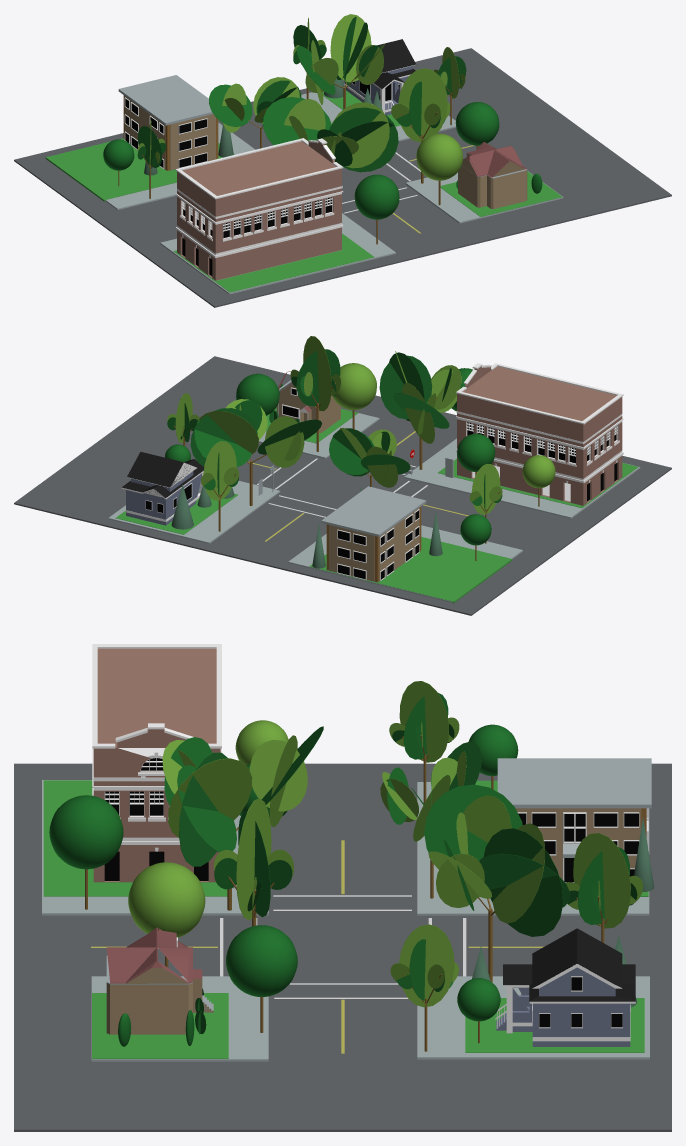
3 views of the same model, one above another, from view 1: azimuth 30°, elevation 25°; view 2: azimuth 150°, elevation 25°; view 3: azimuth 270°, elevation 25° (orthographic). The views are drawn at different scales.
Visible parts, largest first — view 1: pCube3, pasted__pCube42, pasted__pCube33, pasted__pCube5, pCube64, pCube172, pCube205, pCube75, pCylinder62 pCylinder44, pCylinder31 pSphere2, pasted__pCube28, pCylinder24 pSphere2 (+29 smaller); view 2: pCube3, pasted__pCube42, pCube172, pasted__pCube33, pCube205, pasted__pCube28, pasted__pCube5, pasted__pCube2, pasted__pCube27, pCylinder31 pSphere2, pCube190, pCube239 (+36 smaller); view 3: pCube3, pasted__pCube42, pCube64, pCube205, pasted__pCube2, pCube74, pCylinder31 pSphere2, pCylinder24 pSphere2, pCube239, pCylinder30 pSphere2, pCube75, pasted__pCube29 (+39 smaller).
Boxes of the visible parts, x1,y1,x2,y2 form: pCube3: (14, 48, 671, 307); pasted__pCube42: (177, 141, 341, 221); pasted__pCube33: (177, 194, 341, 253); pasted__pCube5: (177, 227, 341, 280); pCube64: (458, 142, 527, 209); pCube172: (45, 138, 234, 201); pCube205: (118, 75, 212, 125); pCube75: (173, 233, 374, 292); pCylinder62 pCylinder44: (398, 68, 447, 142); pCylinder31 pSphere2: (416, 133, 463, 180); pasted__pCube28: (160, 213, 395, 294); pCylinder24 pSphere2: (354, 174, 399, 219); pCube3: (14, 356, 671, 615); pasted__pCube42: (457, 366, 622, 447); pCube172: (309, 537, 512, 603); pasted__pCube33: (457, 419, 622, 478); pCube205: (321, 486, 426, 536); pasted__pCube28: (404, 438, 640, 518); pasted__pCube5: (457, 455, 622, 505); pasted__pCube2: (108, 481, 280, 543); pasted__pCube27: (288, 525, 522, 602); pCylinder31 pSphere2: (332, 363, 376, 409); pCube190: (329, 525, 374, 581); pCube239: (126, 473, 201, 525); pCube3: (14, 763, 671, 1131); pasted__pCube42: (93, 648, 220, 785); pCube64: (106, 927, 192, 1034); pCube205: (497, 758, 651, 808); pasted__pCube2: (417, 976, 649, 1059); pCube74: (92, 993, 228, 1058); pCylinder31 pSphere2: (128, 862, 205, 937); pCylinder24 pSphere2: (49, 795, 123, 869); pCube239: (512, 987, 630, 1046); pCylinder30 pSphere2: (226, 925, 297, 996); pCube75: (43, 780, 227, 896); pasted__pCube29: (91, 976, 268, 1061).
Bounding box in the file's own units: 17.46 × 4.52 × 13.26.
20 materials, 1 textured.
